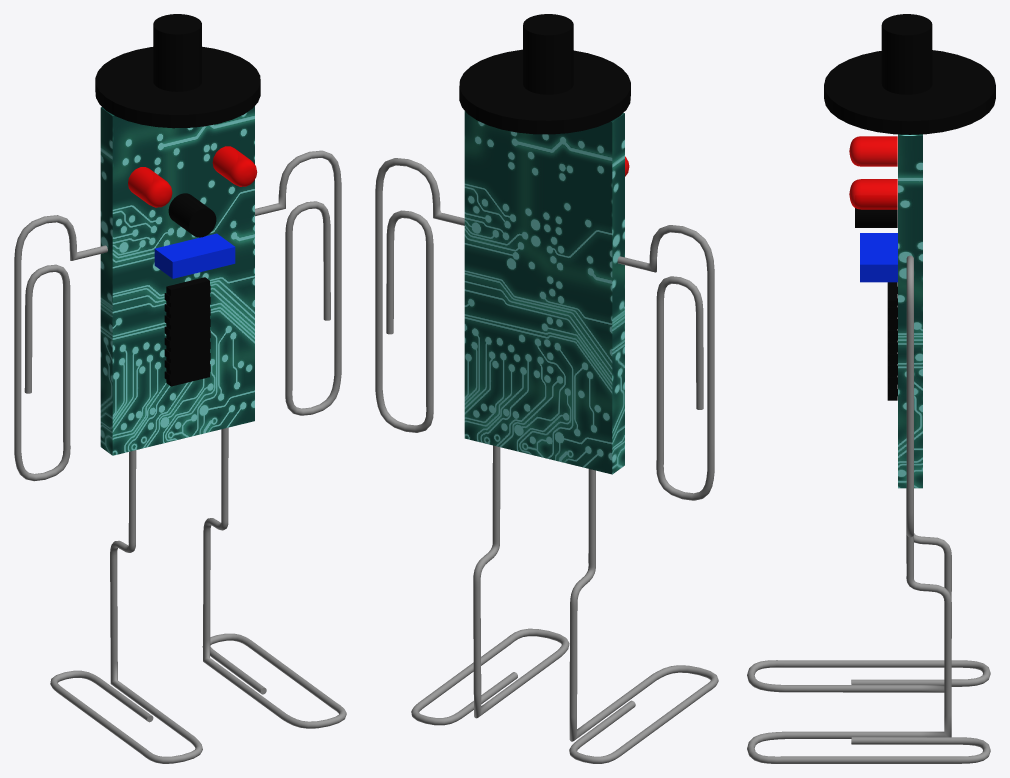
File: testpop6.FBX
3 views of the same model, side by side, from view 1: azimuth 30°, elevation 25°; view 2: azimuth 150°, elevation 25°; view 3: azimuth 270°, elevation 25° (orthographic). The views are drawn at different scales.
Visible parts, largest first — view 1: Box001, Cylinder001, Loft002, Loft001, Loft003, Loft004, Box003, Cylinder002, Box002, Cylinder003, Oog links, ogg rechts; view 2: Box001, Cylinder001, Loft002, Loft001, Loft003, Loft004, Cylinder002; view 3: Cylinder001, Box001, Loft004, Loft003, Cylinder002, Loft001, Box002, Oog links, ogg rechts, Box003, Cylinder003.
Part boxes in pixels (x1,y1,x2,y2): Box001: (100, 106, 254, 455); Cylinder001: (95, 46, 260, 128); Loft002: (14, 215, 107, 481); Loft001: (255, 150, 341, 415); Loft003: (50, 450, 202, 763); Loft004: (202, 427, 346, 728); Box003: (164, 277, 210, 386); Cylinder002: (153, 14, 201, 91); Box002: (154, 233, 235, 278); Cylinder003: (168, 193, 216, 237); Oog links: (128, 167, 172, 207); ogg rechts: (212, 146, 257, 186); Box001: (464, 111, 624, 474); Cylinder001: (459, 49, 630, 134); Loft002: (617, 225, 714, 500); Loft001: (375, 158, 464, 432); Loft003: (569, 469, 718, 763); Loft004: (411, 445, 569, 725); Cylinder002: (523, 14, 573, 94); Cylinder001: (824, 50, 995, 134); Box001: (898, 134, 922, 488); Loft004: (747, 488, 990, 763); Loft003: (747, 533, 990, 692); Cylinder002: (881, 14, 932, 94); Loft001: (906, 255, 913, 537); Box002: (860, 233, 897, 282); Oog links: (849, 136, 897, 166); ogg rechts: (849, 179, 897, 209); Box003: (887, 282, 897, 400); Cylinder003: (855, 208, 897, 227).
Bounding box in the file's own units: 4.51 × 8.79 × 2.87.
